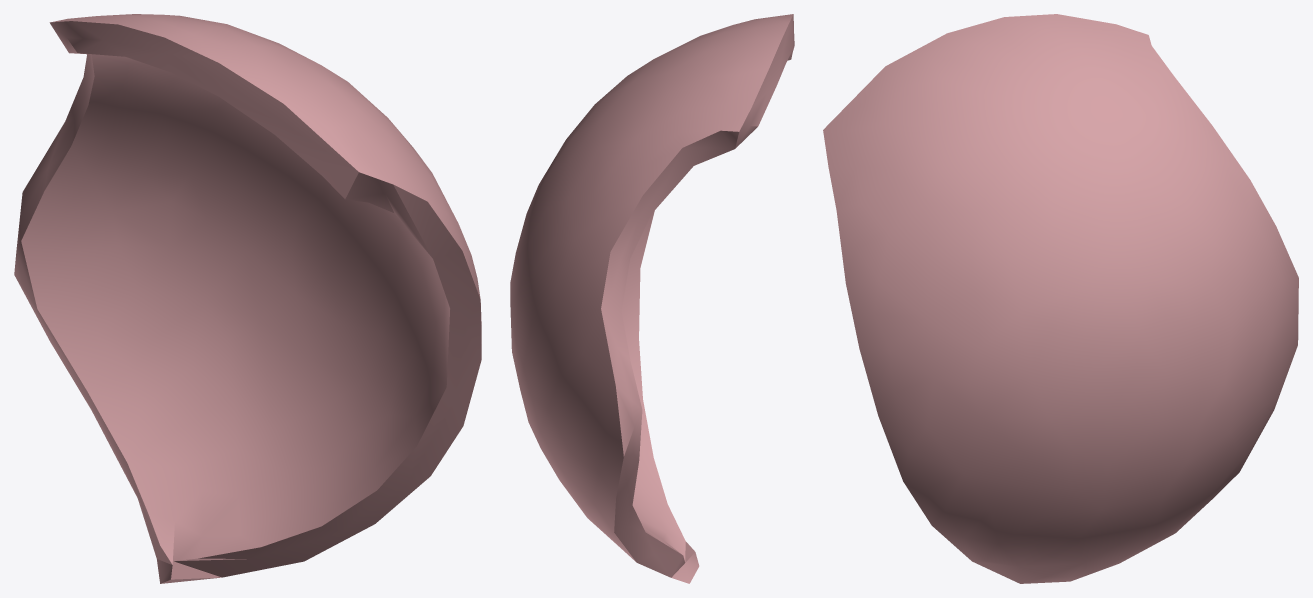
Rendered from fma59767_mm2118m.glb.
The picture shows the model from 3 angles, left to right: view 1: azimuth 30°, elevation 25°; view 2: azimuth 150°, elevation 25°; view 3: azimuth 270°, elevation 25°; orthographic projection. The views are drawn at different scales.
Visible parts, largest first — view 1: FMA59767_MM2118M; view 2: FMA59767_MM2118M; view 3: FMA59767_MM2118M.
Part boxes in pixels (bbox=[...]): FMA59767_MM2118M: bbox=[14, 14, 481, 583]; FMA59767_MM2118M: bbox=[510, 14, 794, 583]; FMA59767_MM2118M: bbox=[823, 14, 1298, 583].
Size of the model in its own units: 0.00689 by 0.0129 by 0.0105.
